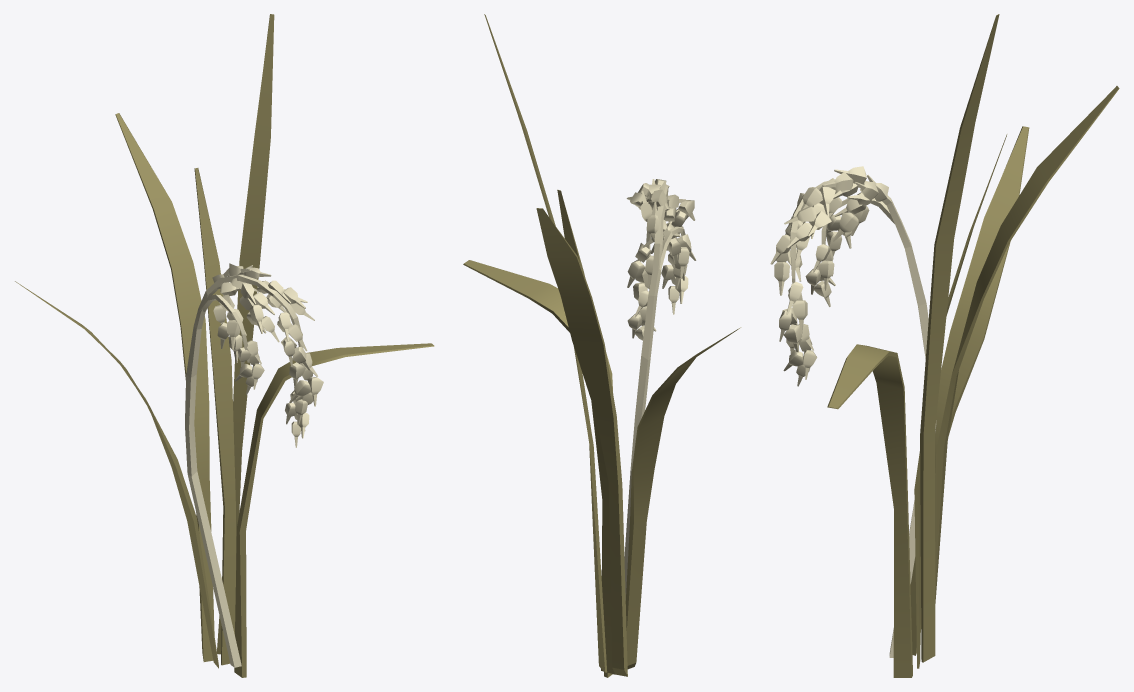
File: rice_plant-transformed.glb
3 views of the same model, side by side, from view 1: azimuth 30°, elevation 25°; view 2: azimuth 150°, elevation 25°; view 3: azimuth 270°, elevation 25° (orthographic). The views are drawn at different scales.
Parts seen in each view (by area): view 1: Object_3, Object_4; view 2: Object_3, Object_4; view 3: Object_3, Object_4.
Boxes of the visible parts, x1,y1,x2,y2 form: Object_3: [15, 14, 434, 677]; Object_4: [185, 263, 323, 667]; Object_3: [463, 14, 741, 677]; Object_4: [624, 179, 696, 600]; Object_3: [827, 14, 1119, 677]; Object_4: [770, 166, 936, 657].
Size of the model in its own units: 37.52 by 65.75 by 29.6.
